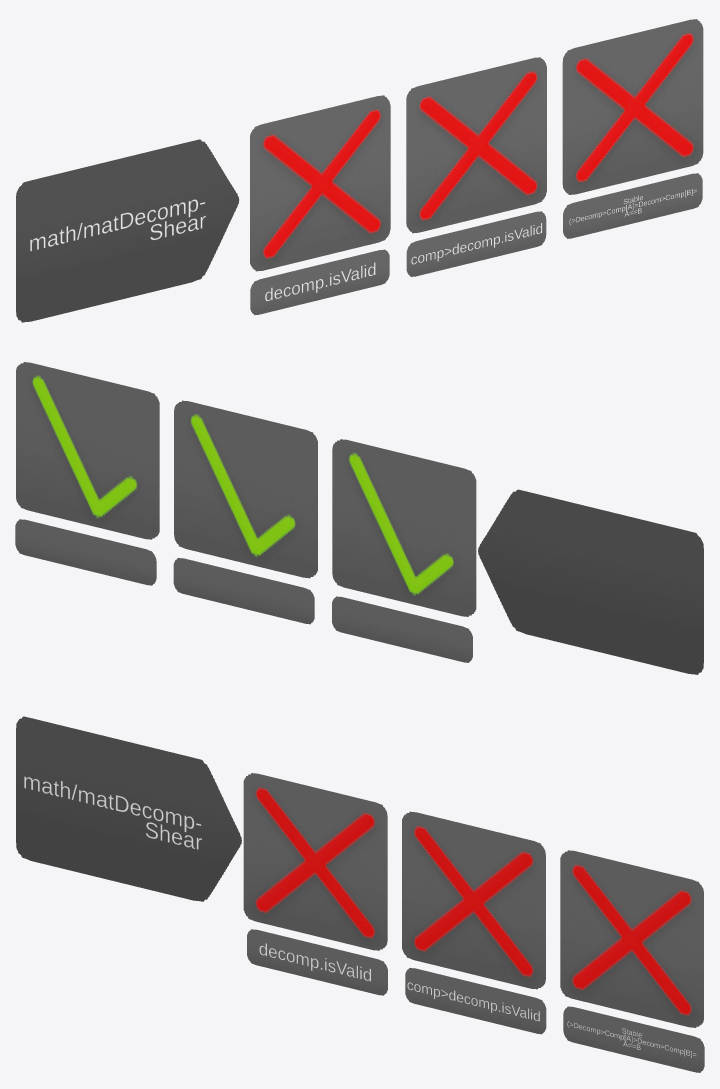
File: matDecomp-Shear.glb
3 renders of one model, top to bottom at view 1: azimuth 30°, elevation 25°; view 2: azimuth 150°, elevation 25°; view 3: azimuth 330°, elevation 25°, orthographic.
Parts seen in each view (by area): view 1: Fail (×3), Quad (×4), Label (×3), Pass (×3), CaseLabel_math/matDecomp-Shear; view 2: Pass (×3), Quad (×4), Fail (×3); view 3: Fail (×3), Quad (×4), Pass (×3), CaseLabel_math/matDecomp-Shear, Label (×2).
Part boxes in pixels (x1,y1,x2,y2): Fail (×3): (251, 20, 703, 271); Quad (×4): (16, 139, 702, 322); Label (×3): (265, 189, 696, 301); Pass (×3): (250, 19, 701, 265); CaseLabel_math/matDecomp-Shear: (30, 199, 205, 251); Pass (×3): (16, 363, 473, 616); Quad (×4): (15, 489, 703, 674); Fail (×3): (23, 362, 476, 615); Fail (×3): (243, 774, 701, 1027); Quad (×4): (16, 716, 704, 1072); Pass (×3): (251, 773, 703, 1026); CaseLabel_math/matDecomp-Shear: (24, 776, 201, 849); Label (×2): (259, 943, 539, 1021).
Bounding box in the file's own units: 4.83 × 1.29 × 0.062.
6 materials, 6 textured.
